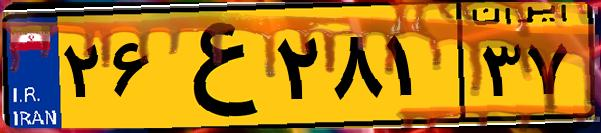1: (385, 28, 445, 110)
2: (270, 28, 330, 110), (57, 26, 110, 100)
3: (475, 38, 525, 113)
6: (110, 28, 158, 98)
7: (525, 38, 570, 115)
8: (330, 28, 385, 110)
ع: (158, 12, 270, 120)
